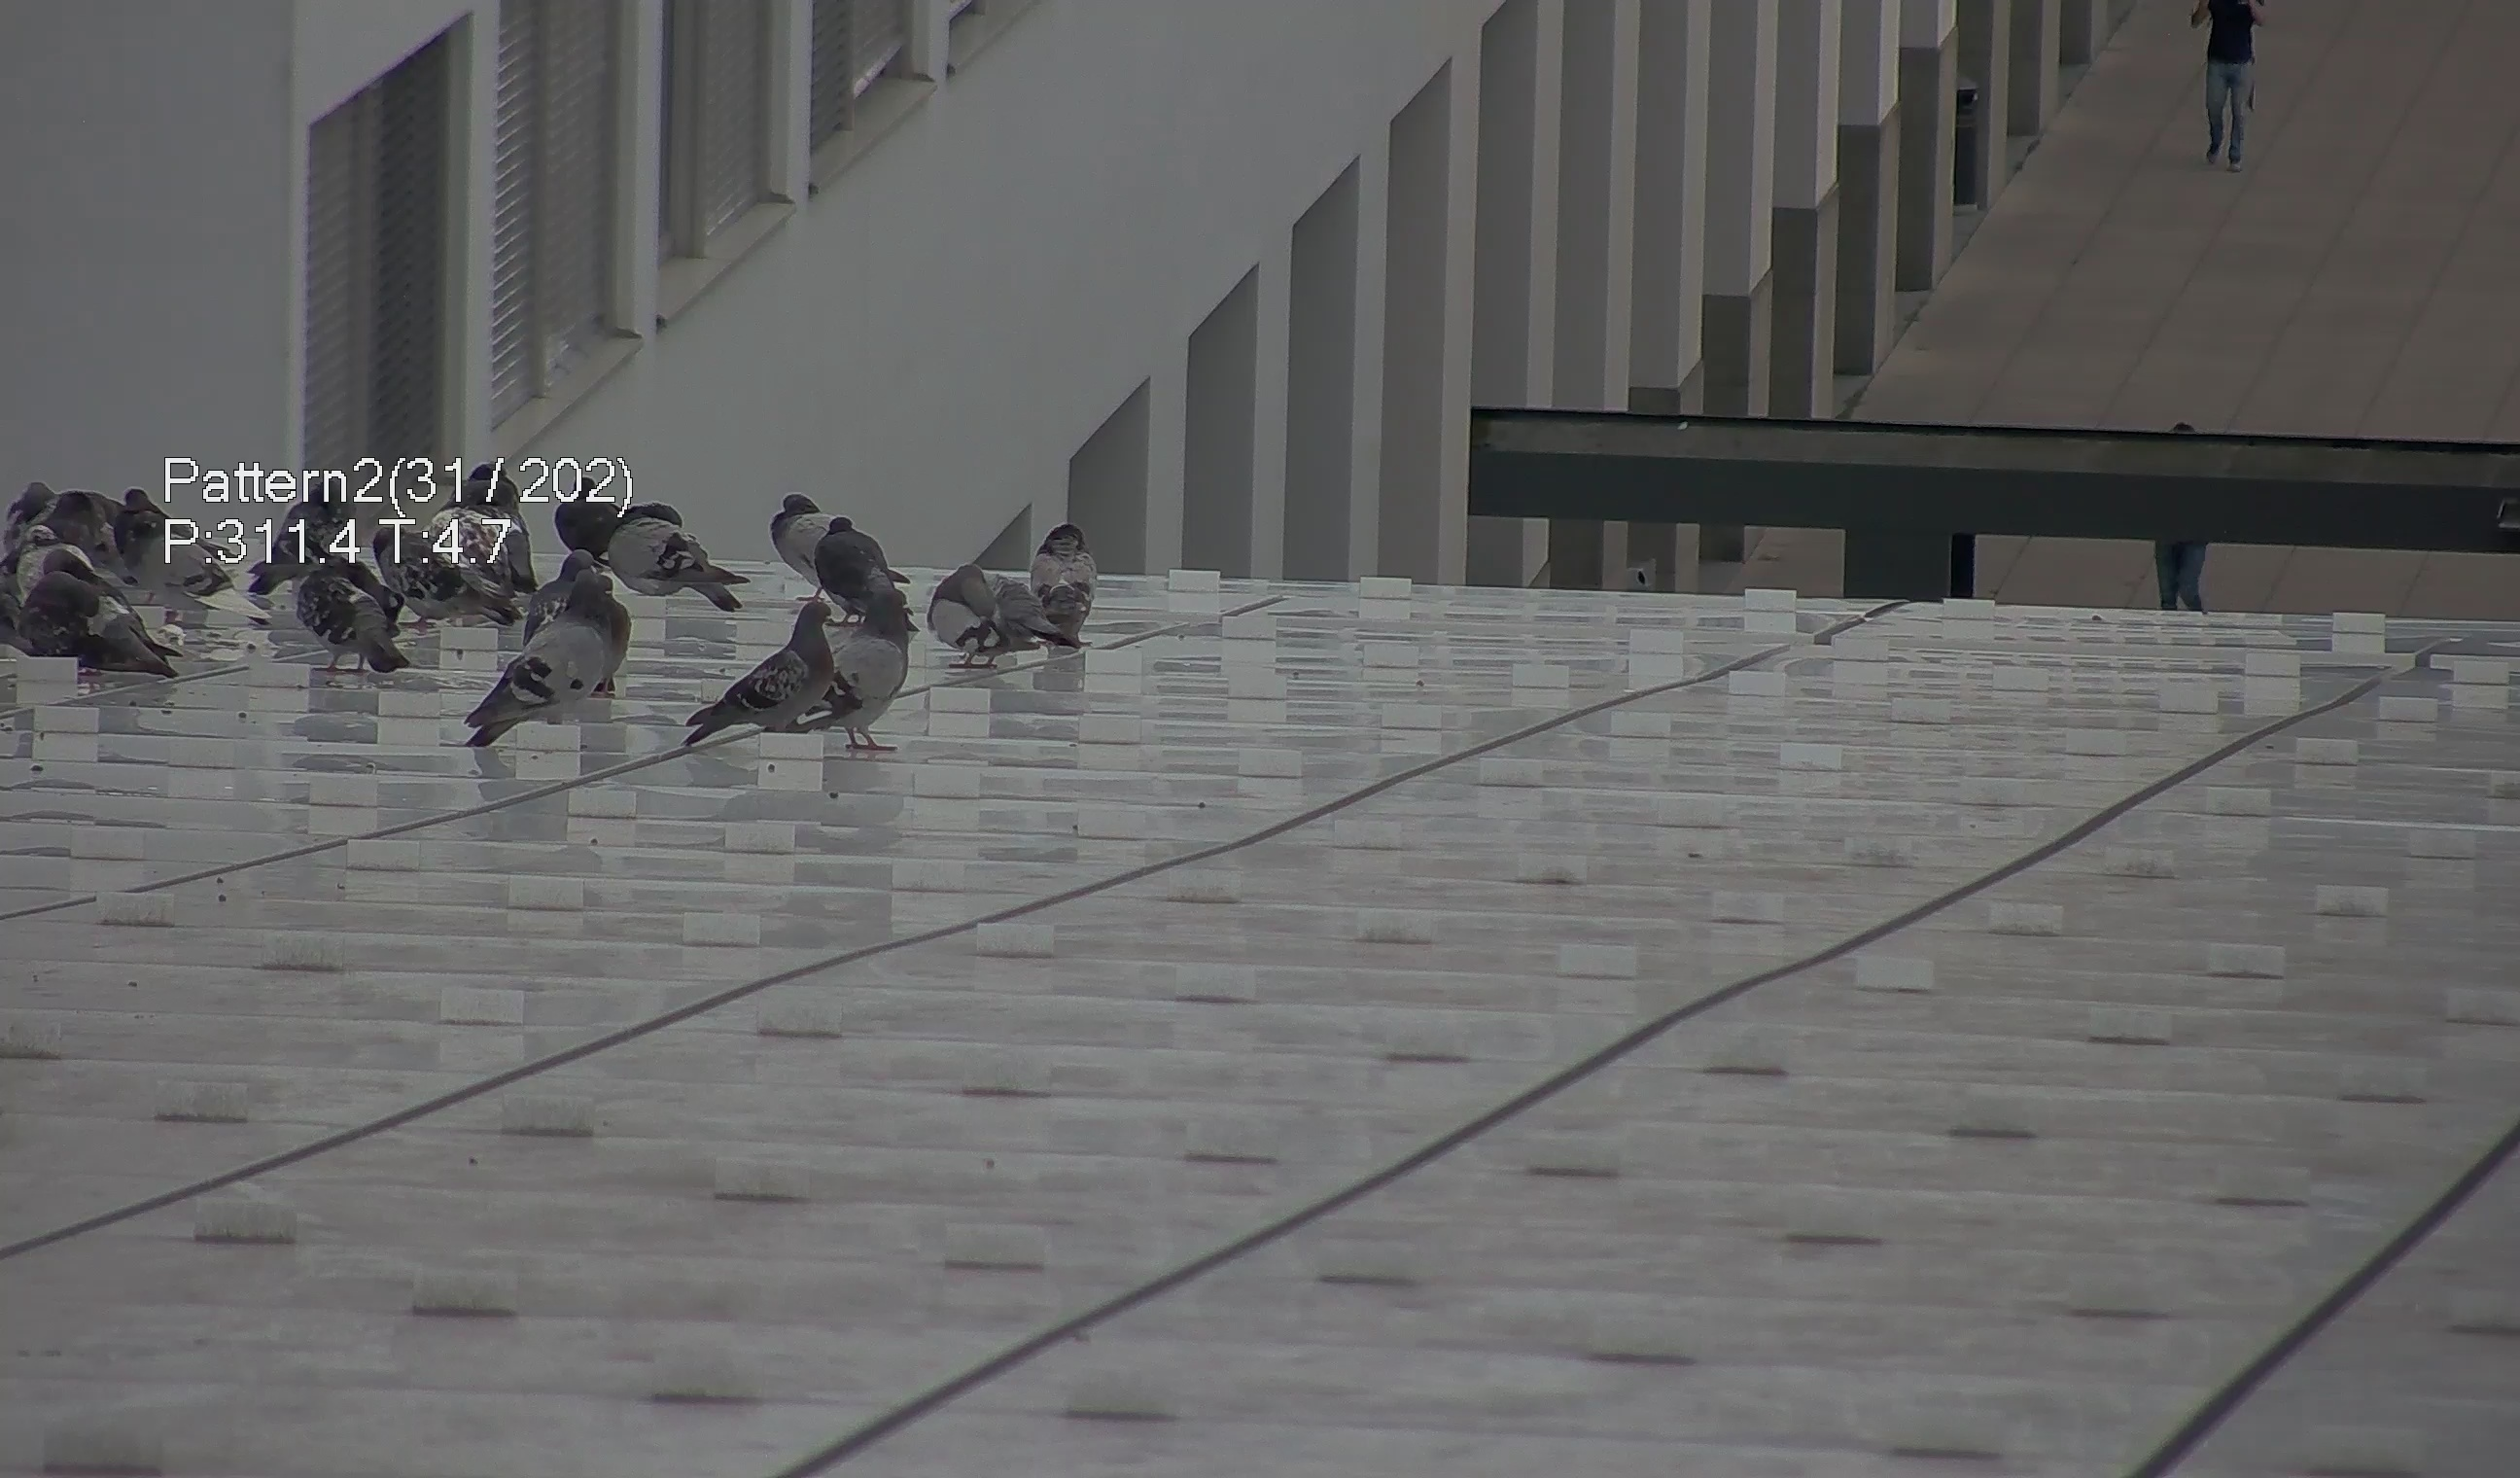Pigeon: (452, 563, 631, 746), (666, 588, 846, 753), (19, 542, 199, 693), (116, 509, 287, 623), (594, 496, 747, 621), (807, 582, 913, 758), (914, 538, 1059, 667), (373, 523, 515, 633), (243, 468, 357, 602), (809, 510, 916, 630), (441, 449, 528, 596), (302, 560, 397, 679), (1043, 516, 1103, 639), (552, 475, 619, 556), (767, 491, 825, 582)
